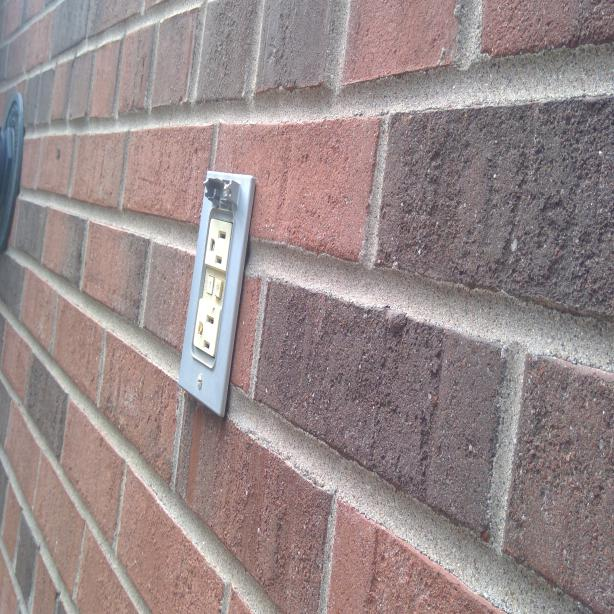typeb: (204, 219, 234, 268), (193, 304, 222, 354)
